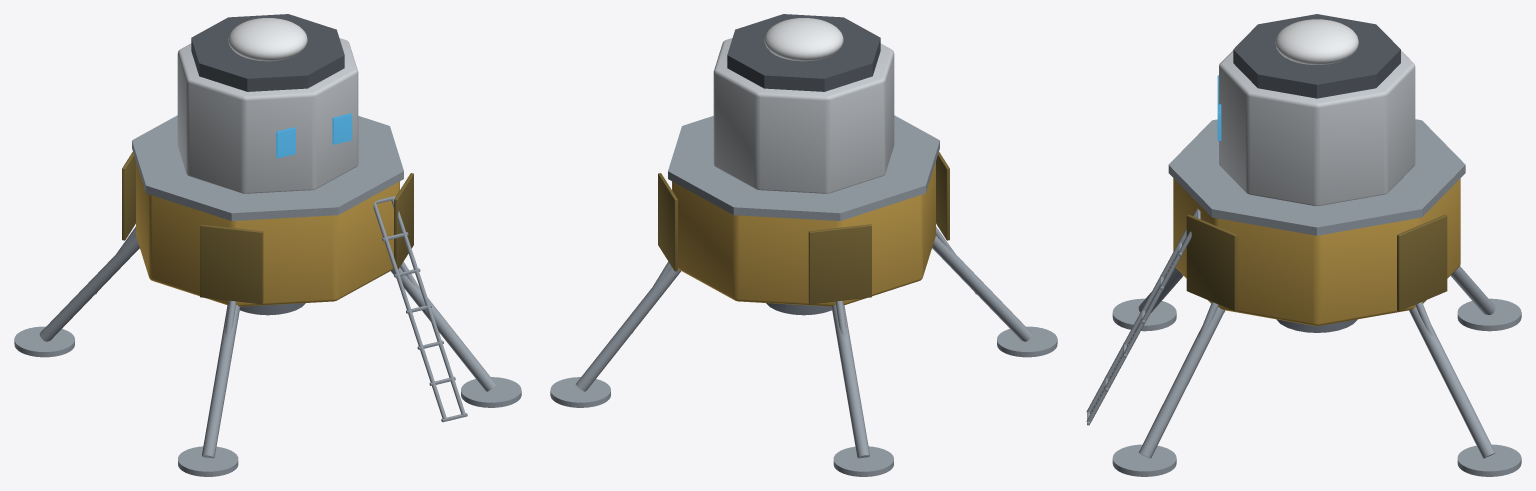
Rendered from lander.glb.
3 views of the same model, side by side, from view 1: azimuth 30°, elevation 25°; view 2: azimuth 150°, elevation 25°; view 3: azimuth 270°, elevation 25° (orthographic). The views are drawn at different scales.
Visible parts, largest first — view 1: Cylinder.001, stage, Cylinder, Cylinder.002, Cube.002, Sphere, Cylinder.009, Cylinder.006, Cylinder.012, Cylinder.011, Cylinder.014, Cylinder.008 (+7 smaller); view 2: Cylinder.001, stage, Cylinder, Cylinder.002, Cube.001, Sphere, Cylinder.003, Cylinder.006, Cylinder.009, Cube, Cylinder.008, Cylinder.005 (+3 smaller); view 3: Cylinder.001, stage, Cylinder, Cylinder.002, Cube.003, Cube, Sphere, Cylinder.003, Cylinder.012, Cylinder.005, Cylinder.014, Cylinder.008 (+5 smaller).
Part boxes in pixels (x1,y1,x2,y2): Cylinder.001: (177,38,358,193); stage: (136,162,399,306); Cylinder: (132,115,403,220); Cylinder.002: (191,14,344,91); Cube.002: (200,224,263,304); Sphere: (228,18,307,61); Cylinder.009: (202,304,240,458); Cylinder.006: (39,236,139,341); Cylinder.012: (391,267,496,391); Cylinder.011: (178,446,238,476); Cylinder.014: (461,377,521,407); Cylinder.008: (14,326,74,357); Cylinder.001: (713,38,894,193); stage: (672,162,935,306); Cylinder: (668,115,939,220); Cylinder.002: (727,14,880,91); Cube.001: (808,224,871,304); Sphere: (764,18,843,61); Cylinder.003: (575,267,680,391); Cylinder.006: (831,304,869,458); Cylinder.009: (932,236,1032,341); Cube: (658,173,677,271); Cylinder.008: (833,446,893,476); Cylinder.005: (550,377,610,407); Cylinder.001: (1219,50,1415,205); stage: (1173,178,1460,326); Cylinder: (1168,119,1465,235); Cylinder.002: (1233,14,1400,98); Cube.003: (1186,214,1237,311); Cube: (1397,214,1447,311); Sphere: (1275,19,1358,64); Cylinder.003: (1409,307,1495,458); Cylinder.012: (1138,307,1225,458); Cylinder.005: (1457,444,1521,476); Cylinder.014: (1112,444,1176,476); Cylinder.008: (1457,298,1521,331).
Size of the model in its own units: 5.37 by 5.26 by 5.71.
